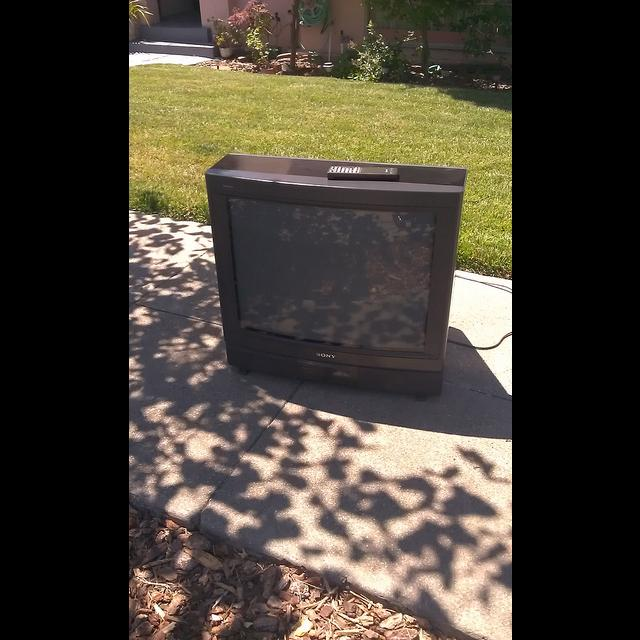Flat-Panel-TV: (195, 140, 475, 406)
TV-Remote-Control: (326, 164, 398, 179)
